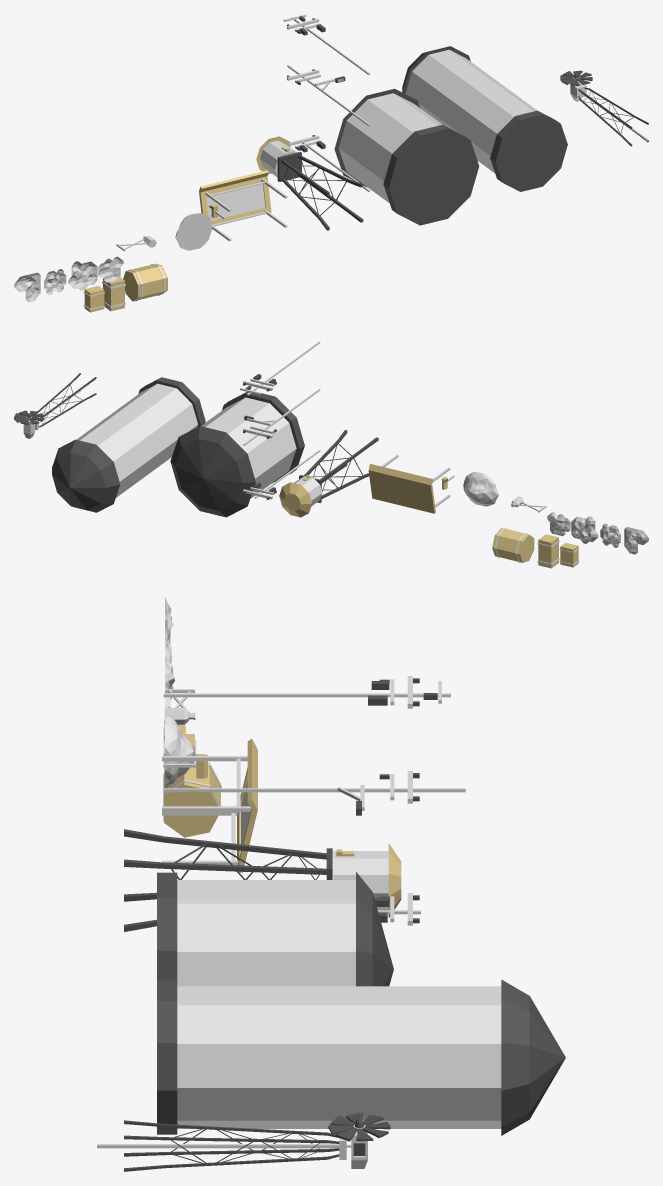
The model's file is Barn Props.fbx.
The picture shows the model from 3 angles, top to bottom: view 1: azimuth 30°, elevation 25°; view 2: azimuth 150°, elevation 25°; view 3: azimuth 270°, elevation 25°; orthographic projection. The views are drawn at different scales.
Parts seen in each view (by area): view 1: Silo 1, Silo 2, Open Shed, Water Tower, Hay Bale 1, Pile 1, Windmill, Pile 3, Telephone Pole 2, Telephone Pole 3, Hay Bale 2, Pile 5 (+4 smaller); view 2: Silo 2, Silo 1, Open Shed, Water Tower, Hay Bale 1, Pile 1, Windmill, Hay Bale 2, Pile 3, Telephone Pole 2, Telephone Pole 3, Telephone Pole 1 (+4 smaller); view 3: Silo 2, Silo 1, Water Tower, Windmill, Open Shed, Hay Bale 1, Telephone Pole 3, Telephone Pole 2, Blades, Pile 1.
Boxes of the visible parts, bbox=[...] form: Silo 1: bbox=[334, 88, 479, 225]; Silo 2: bbox=[402, 46, 567, 191]; Open Shed: bbox=[199, 170, 287, 241]; Water Tower: bbox=[256, 136, 363, 230]; Hay Bale 1: bbox=[123, 263, 167, 301]; Pile 1: bbox=[175, 213, 212, 250]; Windmill: bbox=[575, 84, 648, 146]; Pile 3: bbox=[68, 261, 97, 290]; Telephone Pole 2: bbox=[287, 65, 370, 126]; Telephone Pole 3: bbox=[283, 14, 370, 74]; Hay Bale 2: bbox=[102, 277, 125, 311]; Pile 5: bbox=[14, 272, 40, 302]; Silo 2: bbox=[52, 377, 205, 512]; Silo 1: bbox=[170, 392, 304, 517]; Open Shed: bbox=[368, 455, 450, 513]; Water Tower: bbox=[279, 430, 378, 517]; Hay Bale 1: bbox=[492, 527, 534, 562]; Pile 1: bbox=[463, 471, 498, 506]; Windmill: bbox=[34, 373, 96, 430]; Hay Bale 2: bbox=[537, 534, 559, 568]; Pile 3: bbox=[571, 516, 598, 543]; Telephone Pole 2: bbox=[243, 389, 320, 445]; Telephone Pole 3: bbox=[240, 341, 320, 395]; Telephone Pole 1: bbox=[243, 450, 320, 499]; Silo 2: bbox=[157, 979, 565, 1135]; Silo 1: bbox=[157, 872, 393, 986]; Water Tower: bbox=[124, 829, 401, 931]; Windmill: bbox=[97, 1120, 351, 1171]; Open Shed: bbox=[162, 739, 257, 872]; Hay Bale 1: bbox=[163, 761, 221, 837]; Telephone Pole 3: bbox=[163, 676, 450, 708]; Telephone Pole 2: bbox=[163, 771, 465, 815]; Blades: bbox=[328, 1113, 390, 1141]; Pile 1: bbox=[165, 713, 194, 788].
Size of the model in its own units: 9022 by 2449 by 3135.
